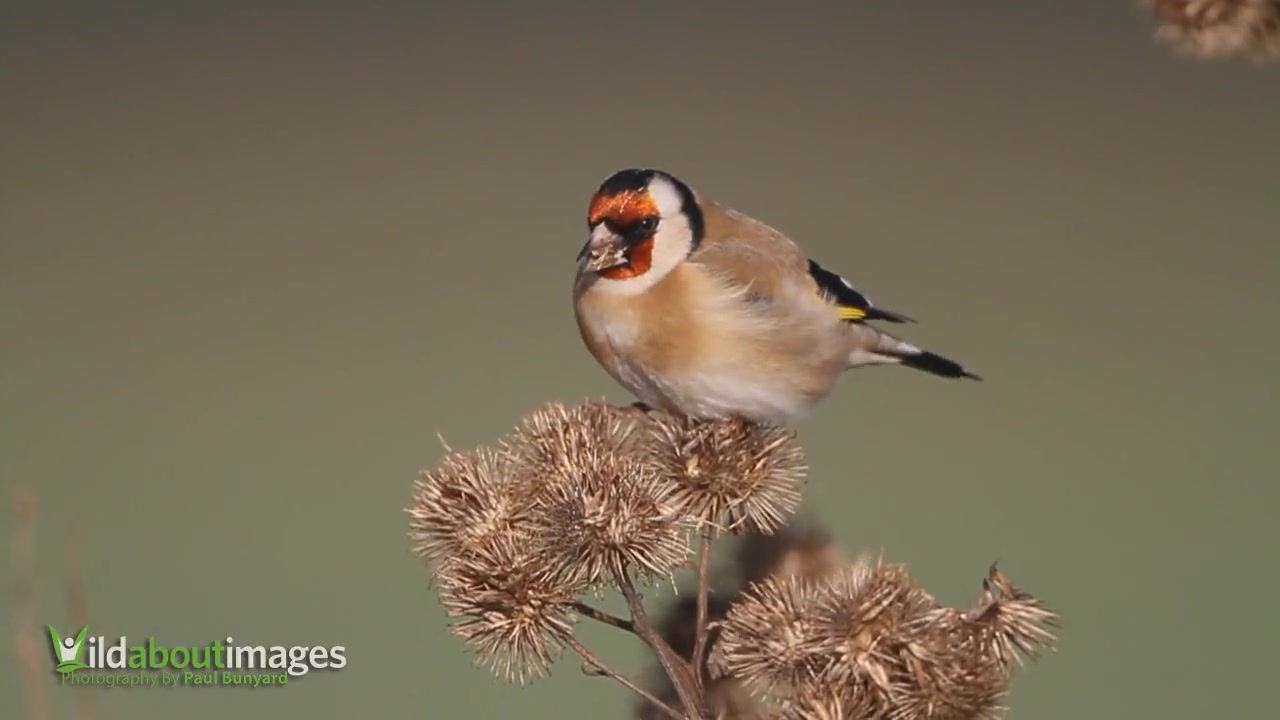bird: (573, 168, 985, 426)
